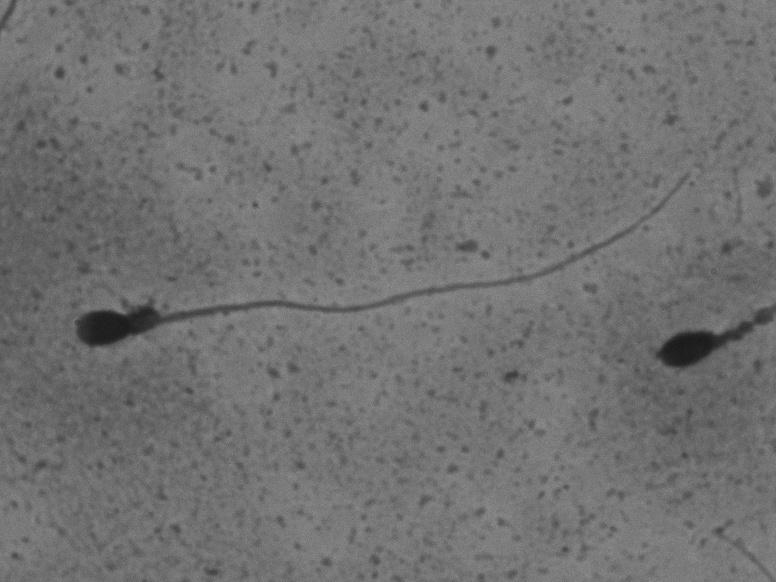Abnormal: (44, 199, 647, 358)
